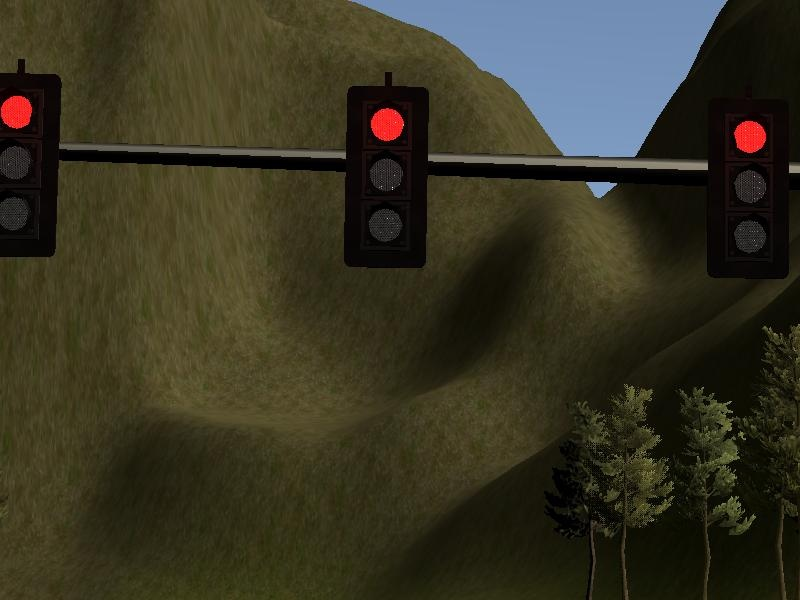RED: (346, 88, 426, 263), (708, 99, 788, 274), (1, 74, 59, 258)
